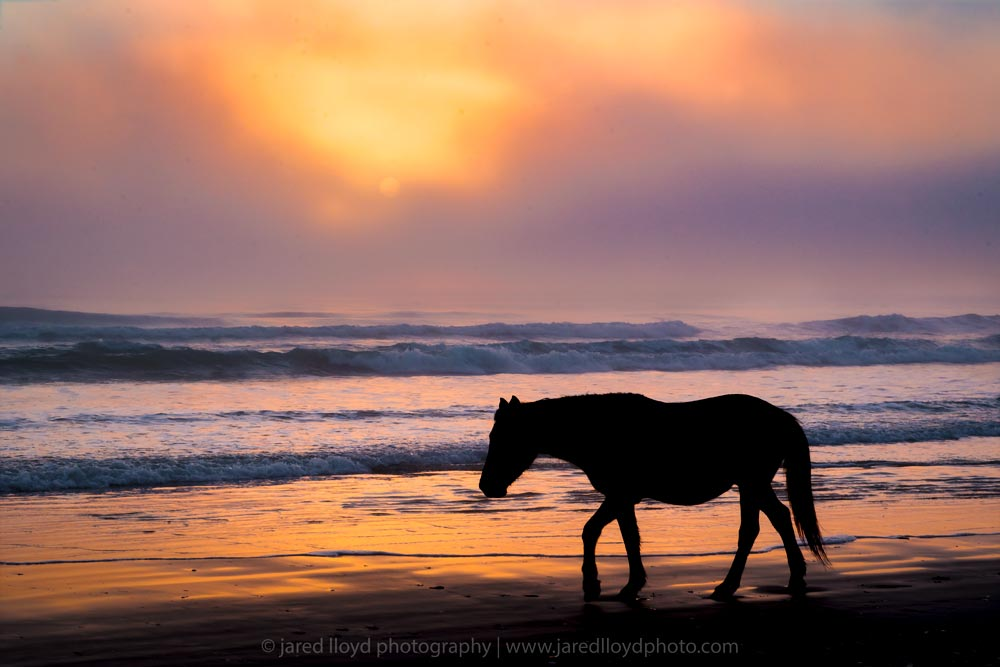Horse: (474, 385, 838, 608)
